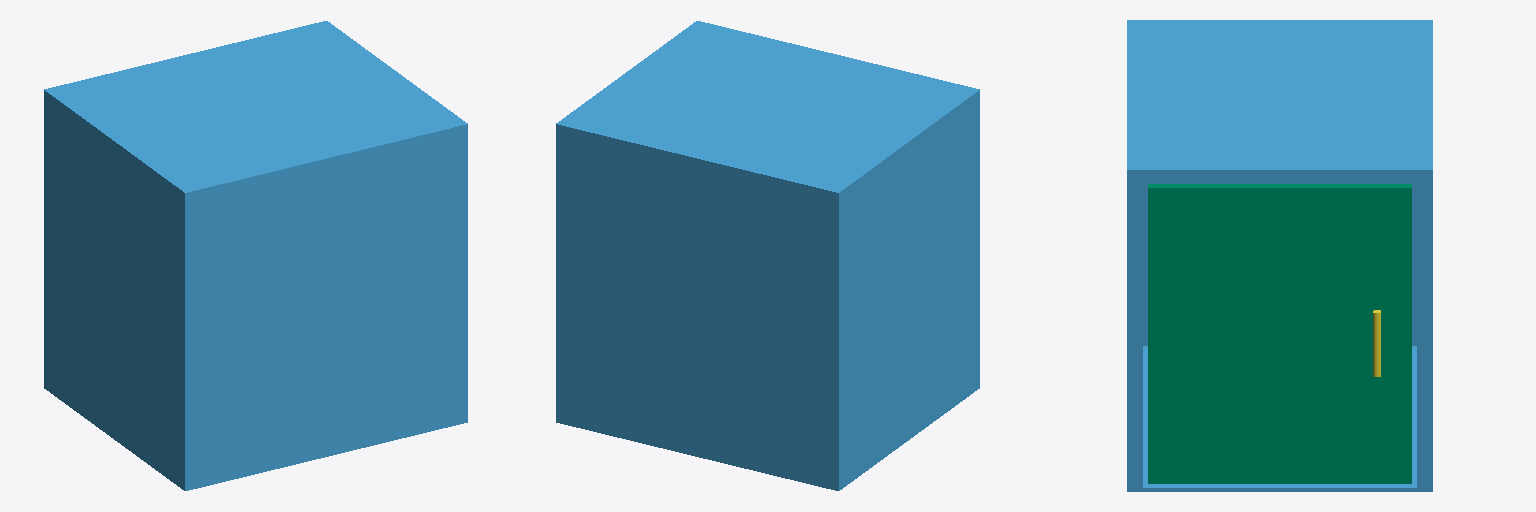
The robot description file, URDF, robot "my_cabinet":
<?xml version="1.0" ?>
<robot name="my_cabinet">
	<link name="world"/>
	<joint name="virtual_joint" type="fixed">
		<parent link="world"/>
		<child link="base_cabinet_link"/>
		<origin xyz="0.0 0.0 0.0" rpy="0.0 0.0 0.0"/>
	</joint>
	<link name="base_cabinet_link">
		<visual>
			<origin xyz="0.0 0.0 -0.19244301049898405" rpy="0.0 0.0 0.0"/>
			<geometry>
				<box size="0.4 0.3461707579772326 0.004"/>
			</geometry>
		</visual>
		<collision name="base_cabinet_link_collision_0">
			<origin xyz="0.0 0.0 -0.19244301049898405" rpy="0.0 0.0 0.0"/>
			<geometry>
				<box size="0.4 0.3461707579772326 0.004"/>
			</geometry>
		</collision>
		<visual>
			<origin xyz="0.0 0.1640853789886163 0.007" rpy="0.0 0.0 0.0"/>
			<geometry>
				<box size="0.4 0.018 0.4028860209979681"/>
			</geometry>
		</visual>
		<collision name="base_cabinet_link_collision_1">
			<origin xyz="0.0 0.1640853789886163 0.007" rpy="0.0 0.0 0.0"/>
			<geometry>
				<box size="0.4 0.018 0.4028860209979681"/>
			</geometry>
		</collision>
		<visual>
			<origin xyz="0.0 -0.1640853789886163 0.007" rpy="0.0 0.0 0.0"/>
			<geometry>
				<box size="0.4 0.018 0.4028860209979681"/>
			</geometry>
		</visual>
		<collision name="base_cabinet_link_collision_2">
			<origin xyz="0.0 -0.1640853789886163 0.007" rpy="0.0 0.0 0.0"/>
			<geometry>
				<box size="0.4 0.018 0.4028860209979681"/>
			</geometry>
		</collision>
		<visual>
			<origin xyz="0.0 0.0 0.19944301049898405" rpy="0.0 0.0 0.0"/>
			<geometry>
				<box size="0.4 0.3461707579772326 0.018"/>
			</geometry>
		</visual>
		<collision name="base_cabinet_link_collision_3">
			<origin xyz="0.0 0.0 0.19944301049898405" rpy="0.0 0.0 0.0"/>
			<geometry>
				<box size="0.4 0.3461707579772326 0.018"/>
			</geometry>
		</collision>
		<visual>
			<origin xyz="-0.191 0.0 0.007" rpy="0.0 0.0 0.0"/>
			<geometry>
				<box size="0.018 0.3461707579772326 0.4028860209979681"/>
			</geometry>
		</visual>
		<collision name="base_cabinet_link_collision_4">
			<origin xyz="-0.191 0.0 0.007" rpy="0.0 0.0 0.0"/>
			<geometry>
				<box size="0.018 0.3461707579772326 0.4028860209979681"/>
			</geometry>
		</collision>
		<inertial>
			<mass value="0.200000"/>
			<inertia ixx="0.004703" ixy="0.0" ixz="0.0" iyy="0.005372" iyz="0.0" izz="0.004664"/>
		</inertial>
	</link>
	<link name="door_link">
		<visual>
			<origin xyz="0.0 -0.1400853789886163 0.0"/>
			<geometry>
				<box size="0.018 0.30017075797723264 0.3708860209979681"/>
			</geometry>
		</visual>
		<collision name="door_link_collision">
			<origin xyz="0.0 -0.1400853789886163 0.0"/>
			<geometry>
				<box size="0.018 0.30017075797723264 0.3708860209979681"/>
			</geometry>
		</collision>
		<inertial>
			<mass value="0.200000"/>
			<inertia ixx="0.003794" ixy="0.0" ixz="0.0" iyy="0.002298" iyz="0.0" izz="0.001507"/>
		</inertial>
	</link>
	<joint name="door_joint" type="revolute">
		<origin xyz="0.191 -0.1400853789886163 0.0" rpy="0.000000 -0.000000 3.141593"/>
		<axis xyz="0 0 1"/>
		<parent link="base_cabinet_link"/>
		<child link="door_link"/>
		<limit effort="50" lower="0" upper="-1.5707963267948966" velocity="10"/>
		<dynamics friction="1.0"/>
	</joint>
	<link name="handle_link">
		<visual>
			<origin xyz="0.0 0.0 0.0" rpy="0.0 0.0 0.0"/>
			<geometry>
				<cylinder length="0.08" radius="0.005"/>
			</geometry>
		</visual>
		<collision name="handle_link_collision_0">
			<origin xyz="0.0 0.0 0.0" rpy="0.0 0.0 0.0"/>
			<geometry>
				<cylinder length="0.08" radius="0.005"/>
			</geometry>
		</collision>
		<visual>
			<origin xyz="-0.01 0.0 0.02" rpy="0.0 1.5707963267948966 0.0"/>
			<geometry>
				<cylinder length="0.02" radius="0.003"/>
			</geometry>
		</visual>
		<collision name="handle_link_collision_1">
			<origin xyz="-0.01 0.0 0.02" rpy="0.0 1.5707963267948966 0.0"/>
			<geometry>
				<cylinder length="0.01" radius="0.003"/>
			</geometry>
		</collision>
		<visual>
			<origin xyz="-0.01 0.0 -0.02" rpy="0.0 1.5707963267948966 0.0"/>
			<geometry>
				<cylinder length="0.02" radius="0.003"/>
			</geometry>
		</visual>
		<collision name="handle_link_collision_2">
			<origin xyz="-0.01 0.0 -0.02" rpy="0.0 1.5707963267948966 0.0"/>
			<geometry>
				<cylinder length="0.02" radius="0.003"/>
			</geometry>
		</collision>
		<inertial>
			<mass value="0.050000"/>
			<inertia ixx="0.000027" ixy="0.0" ixz="0.0" iyy="0.000029" iyz="0.0" izz="0.000003"/>
		</inertial>
	</link>
	<joint name="handle_joint" type="fixed">
		<origin xyz="-0.028999999999999998 -0.25017075797723265 0.0" rpy="0.000000 -0.000000 3.141593"/>
		<parent link="door_link"/>
		<child link="handle_link"/>
	</joint>
	<gazebo reference="base_cabinet_link">
		<sensor name="main_sensor" type="contact">
			<selfCollide>true</selfCollide>
			<alwaysOn>true</alwaysOn>
			<updateRate>5.0</updateRate>
			<material>Gazebo/Red</material>
			<contact>
				<collision>base_cabinet_link_collision_0_collision</collision>
				<collision>base_cabinet_link_collision_1_collision</collision>
				<collision>base_cabinet_link_collision_2_collision</collision>
				<collision>base_cabinet_link_collision_3_collision</collision>
				<collision>base_cabinet_link_collision_4_collision</collision>
			</contact>
			<plugin name="gazebo_ros_bumper_controller" filename="libgazebo_ros_bumper.so">
				<bumperTopicName>/contact</bumperTopicName>
				<frameName>world</frameName>
			</plugin>
		</sensor>
	</gazebo>
	<gazebo reference="door_link">
		<sensor name="main_sensor" type="contact">
			<selfCollide>true</selfCollide>
			<alwaysOn>true</alwaysOn>
			<updateRate>5.0</updateRate>
			<material>Gazebo/Red</material>
			<contact>
				<collision>door_link_collision_collision</collision>
			</contact>
			<plugin name="gazebo_ros_bumper_controller" filename="libgazebo_ros_bumper.so">
				<bumperTopicName>/contact_door</bumperTopicName>
				<frameName>contact_door</frameName>
			</plugin>
		</sensor>
	</gazebo>
</robot>

--- Facts derived from the render (not from the file) ---
The picture shows the robot from 3 angles, left to right: view 1: azimuth 30°, elevation 25°; view 2: azimuth 150°, elevation 25°; view 3: azimuth 270°, elevation 25°; orthographic projection.
Robot: my_cabinet — 4 links, 3 joints (1 revolute, 2 fixed); root link world; default pose: every joint at zero.
Links seen in each view (by area): view 1: base_cabinet_link; view 2: base_cabinet_link; view 3: door_link, base_cabinet_link, handle_link.
Link boxes in pixels (bbox=[...]): base_cabinet_link: bbox=[44, 21, 467, 490]; base_cabinet_link: bbox=[556, 21, 979, 490]; door_link: bbox=[1148, 184, 1411, 483]; base_cabinet_link: bbox=[1127, 20, 1432, 491]; handle_link: bbox=[1373, 310, 1380, 376].
Bounding box of the posed robot: 0.425 × 0.3462 × 0.4029 m (x, y, z).
Geometry: primitives only (box / cylinder / sphere), no mesh files.
